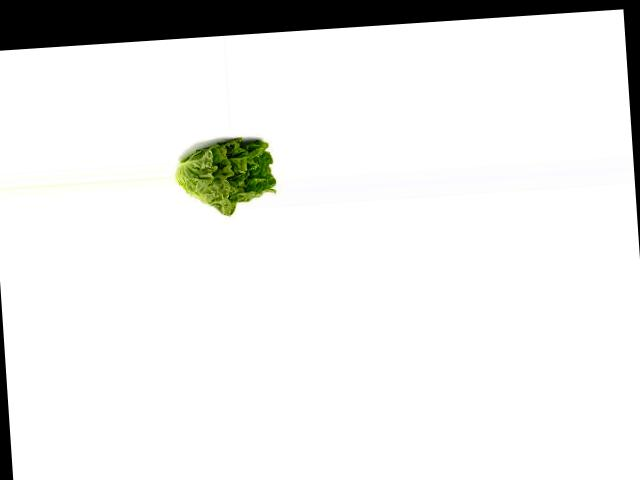lettuce: (173, 130, 277, 217)
